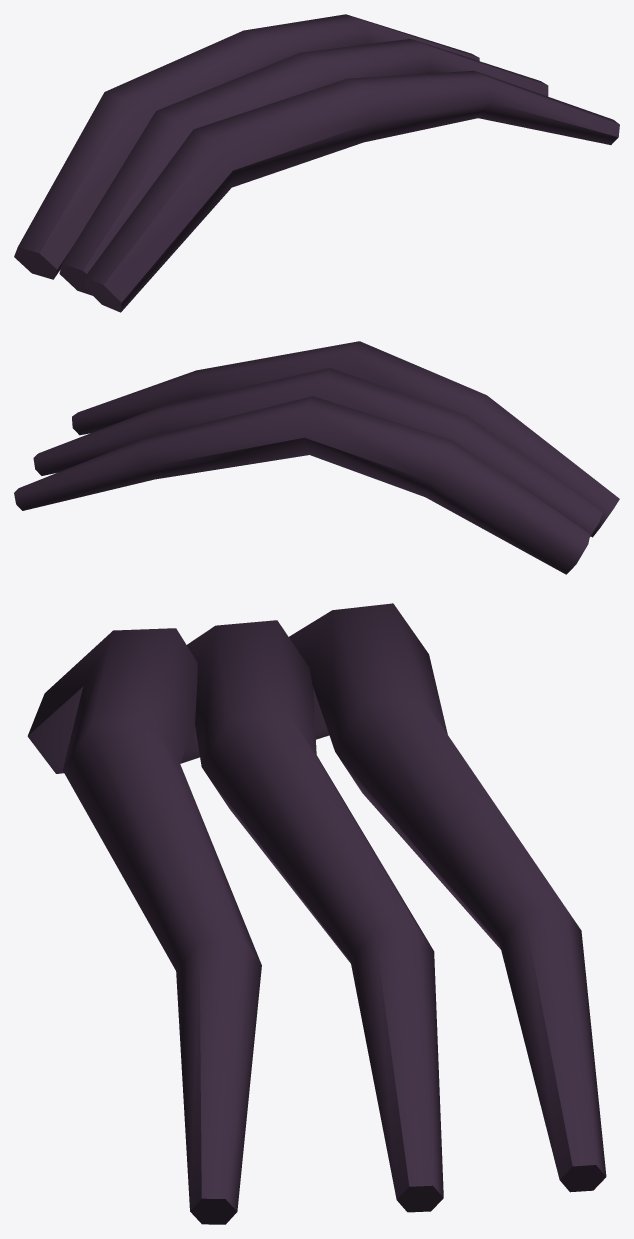
File: Tree_Root.fbx
The picture shows the model from 3 angles, top to bottom: view 1: azimuth 30°, elevation 25°; view 2: azimuth 150°, elevation 25°; view 3: azimuth 270°, elevation 25°; orthographic projection. The views are drawn at different scales.
Visible parts, largest first — view 1: Tree_Root_Mesh; view 2: Tree_Root_Mesh; view 3: Tree_Root_Mesh.
Boxes of the visible parts, x1,y1,x2,y2 form: Tree_Root_Mesh: [14, 14, 619, 312]; Tree_Root_Mesh: [14, 341, 619, 574]; Tree_Root_Mesh: [27, 603, 606, 1224].
Bounding box in the file's own units: 3.07 × 0.7673 × 1.47.
